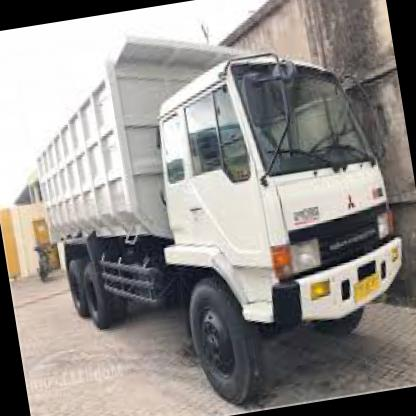truck: (140, 33, 416, 416)
